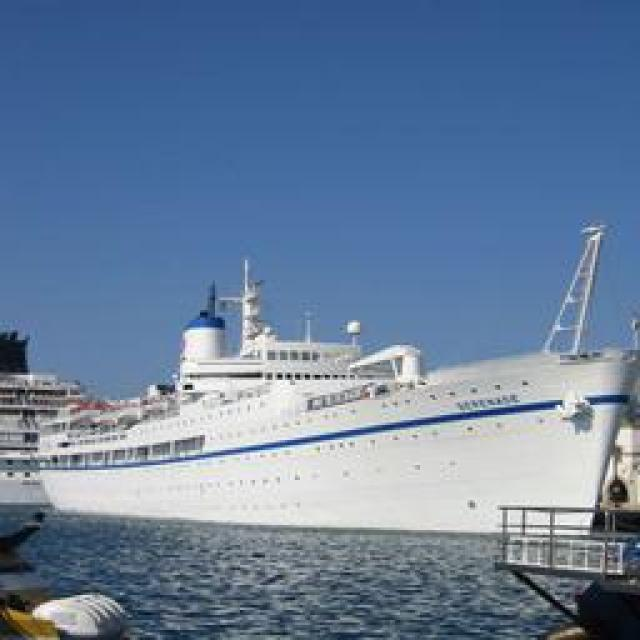CIV_Ship: (20, 214, 640, 544)
